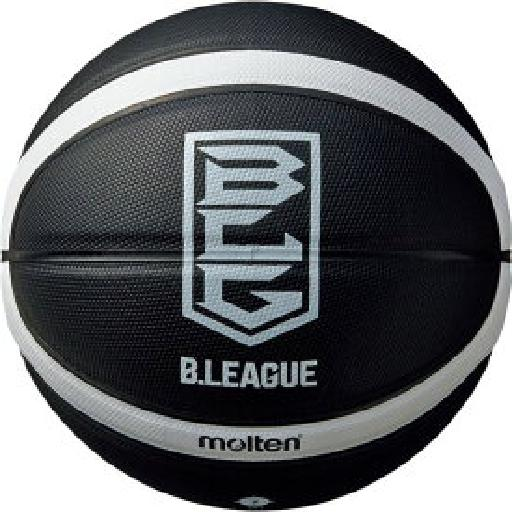ball: (1, 5, 511, 512)
